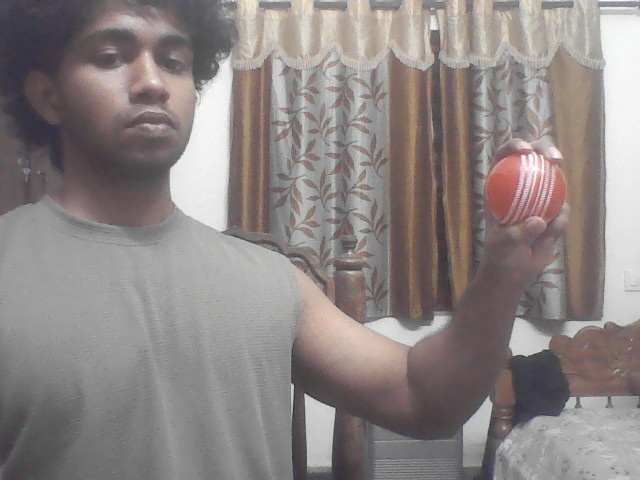cricket_ball: (485, 147, 569, 230)
